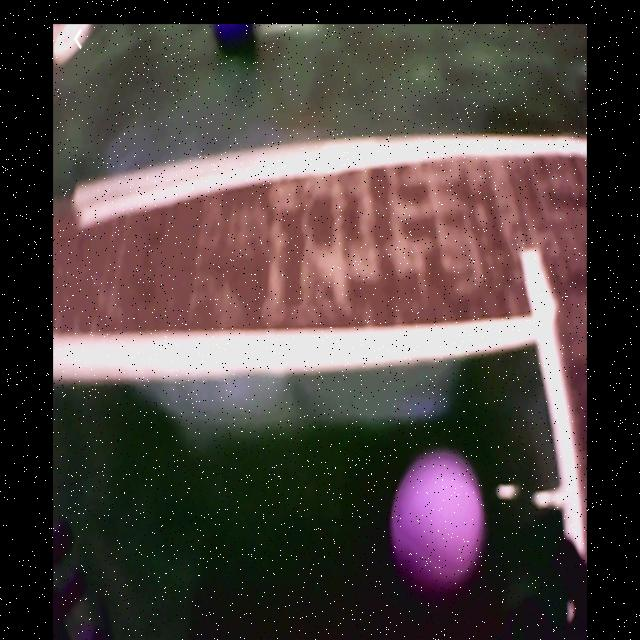ball: (389, 447, 486, 593), (214, 23, 255, 52)
